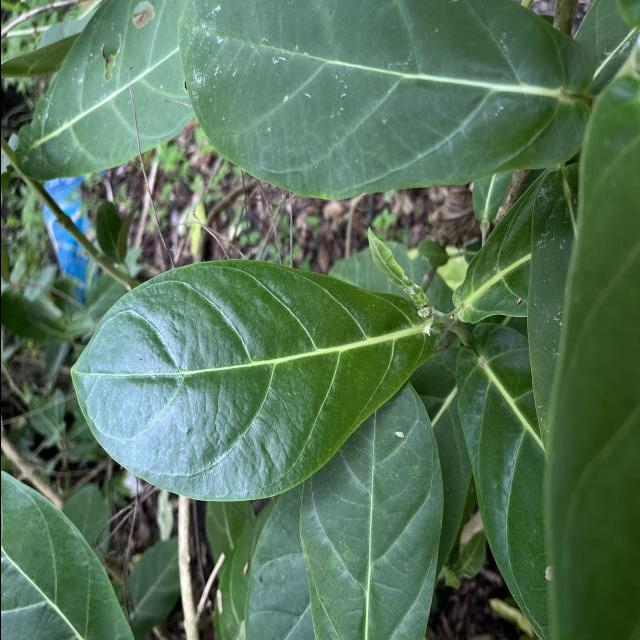Calotropis gigantea: (67, 258, 429, 506), (174, 2, 596, 206)
